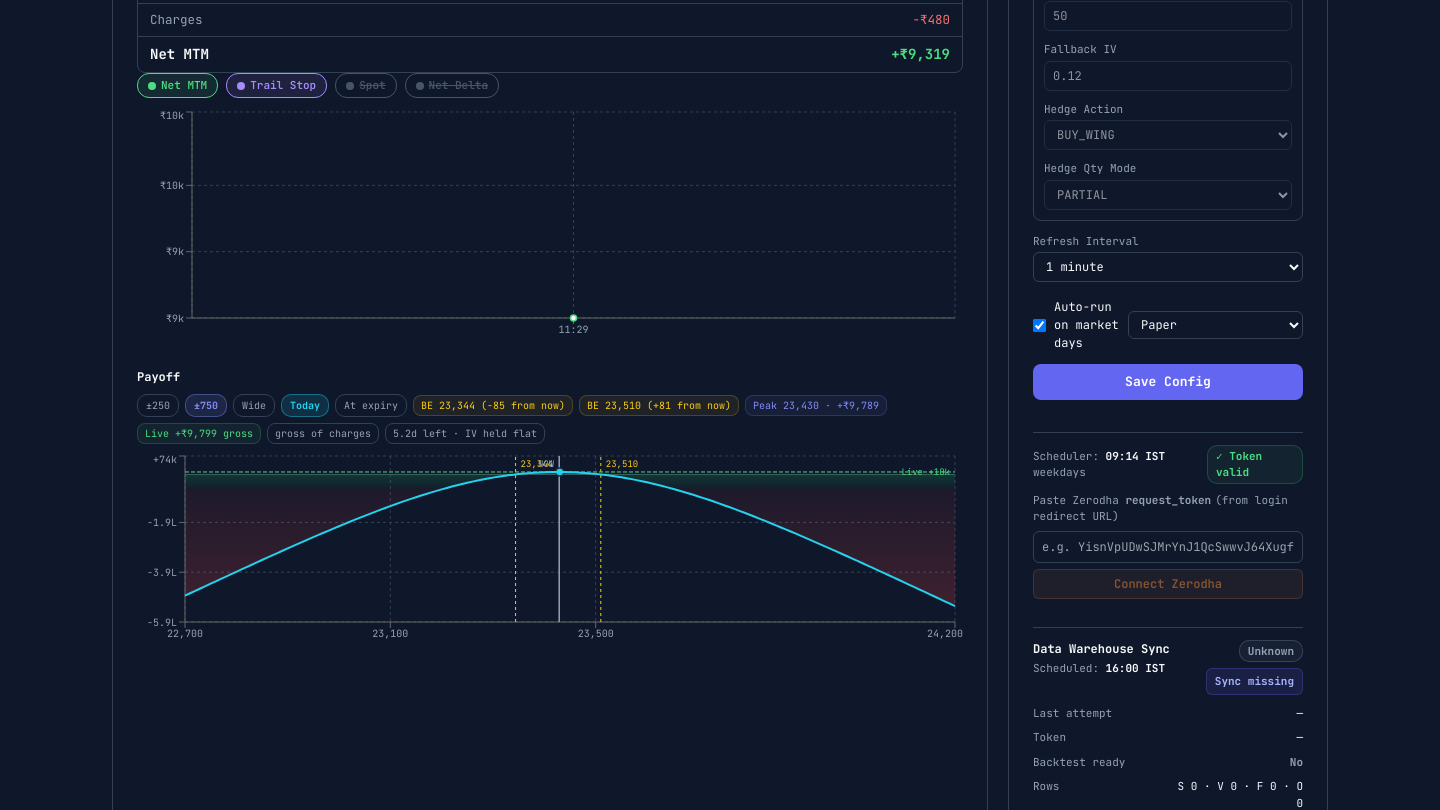
Scenario: LivePaperMonitor intraday payoff line › switches the whole computation back to expiry when Today is turned off
(page scrolled)
Click the button "Today".
click(305, 405)  # box [281,394,329,417]
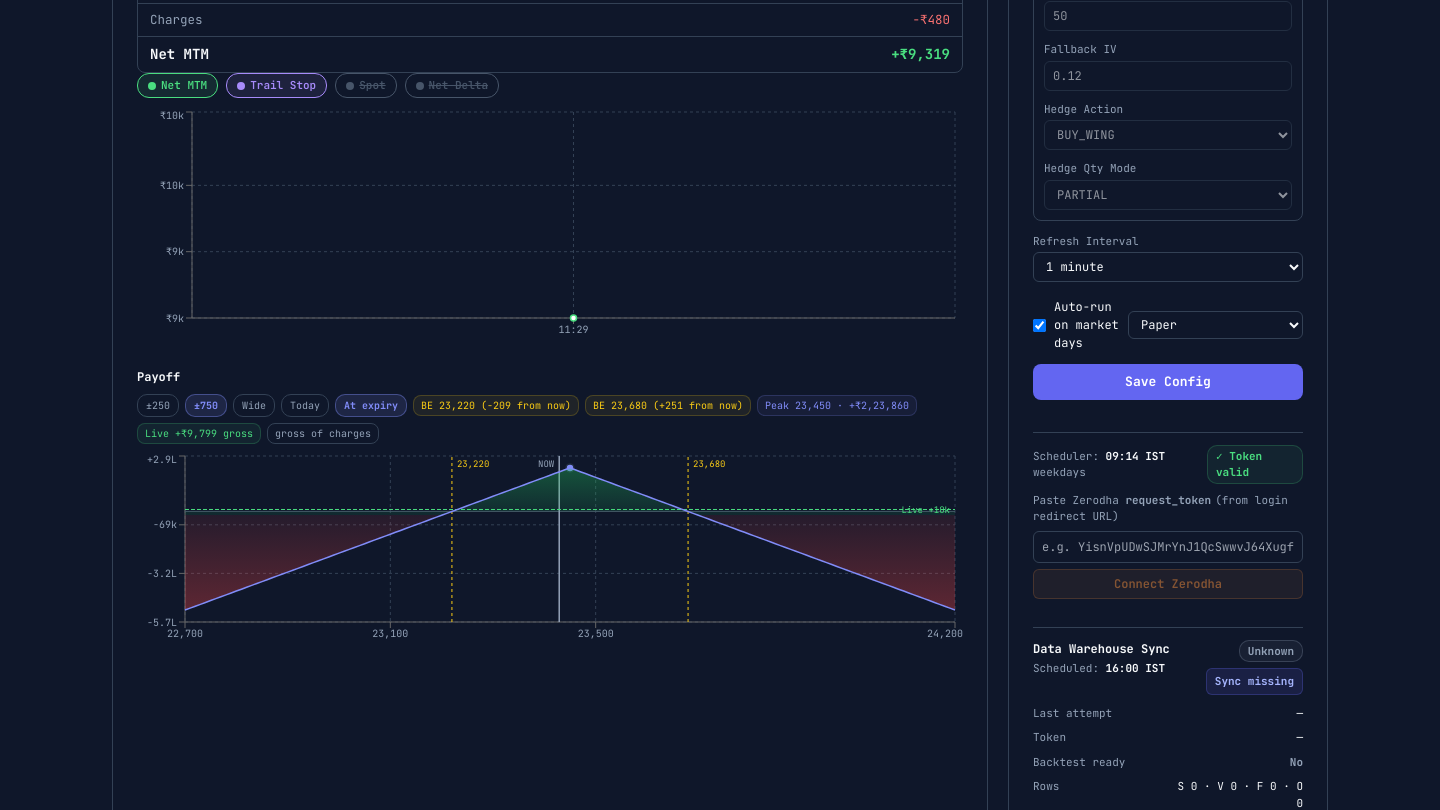
Expected: the text "BE 23,220 (−209 from now)" is shown, [413,395,579,416]
Expected: the text "BE 23,680 (+251 from now)" is shown, [585,395,751,416]
Expected: the text "Peak 23,450 · +₹2,23,860" is shown, [757,395,917,416]
